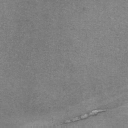finishing roll printing: (62, 109, 108, 124)
